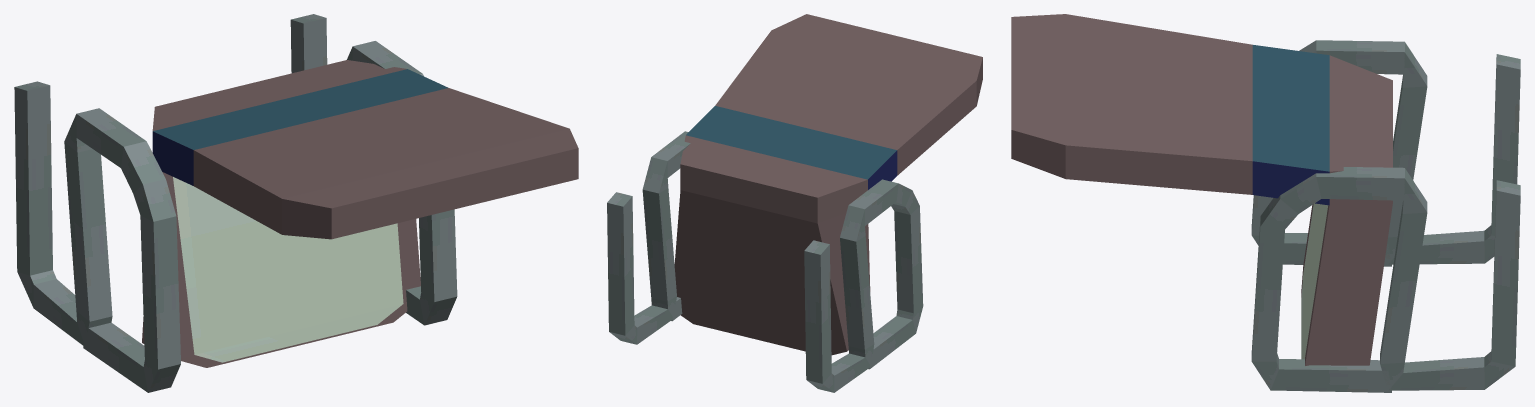
Rendered from 166_tuoli.gltf.
3 renders of one model, left to right at view 1: azimuth 30°, elevation 25°; view 2: azimuth 150°, elevation 25°; view 3: azimuth 270°, elevation 25°, orthographic. The views are drawn at different scales.
Visible parts, largest first — view 1: tuoli; view 2: tuoli; view 3: tuoli.
Boxes of the visible parts, x1=… form: tuoli: x1=14, y1=14, x2=578, y2=392; tuoli: x1=607, y1=14, x2=982, y2=392; tuoli: x1=1011, y1=14, x2=1520, y2=392.
Size of the model in its own units: 1.03 by 0.9066 by 1.55.
1 material, 1 textured.
